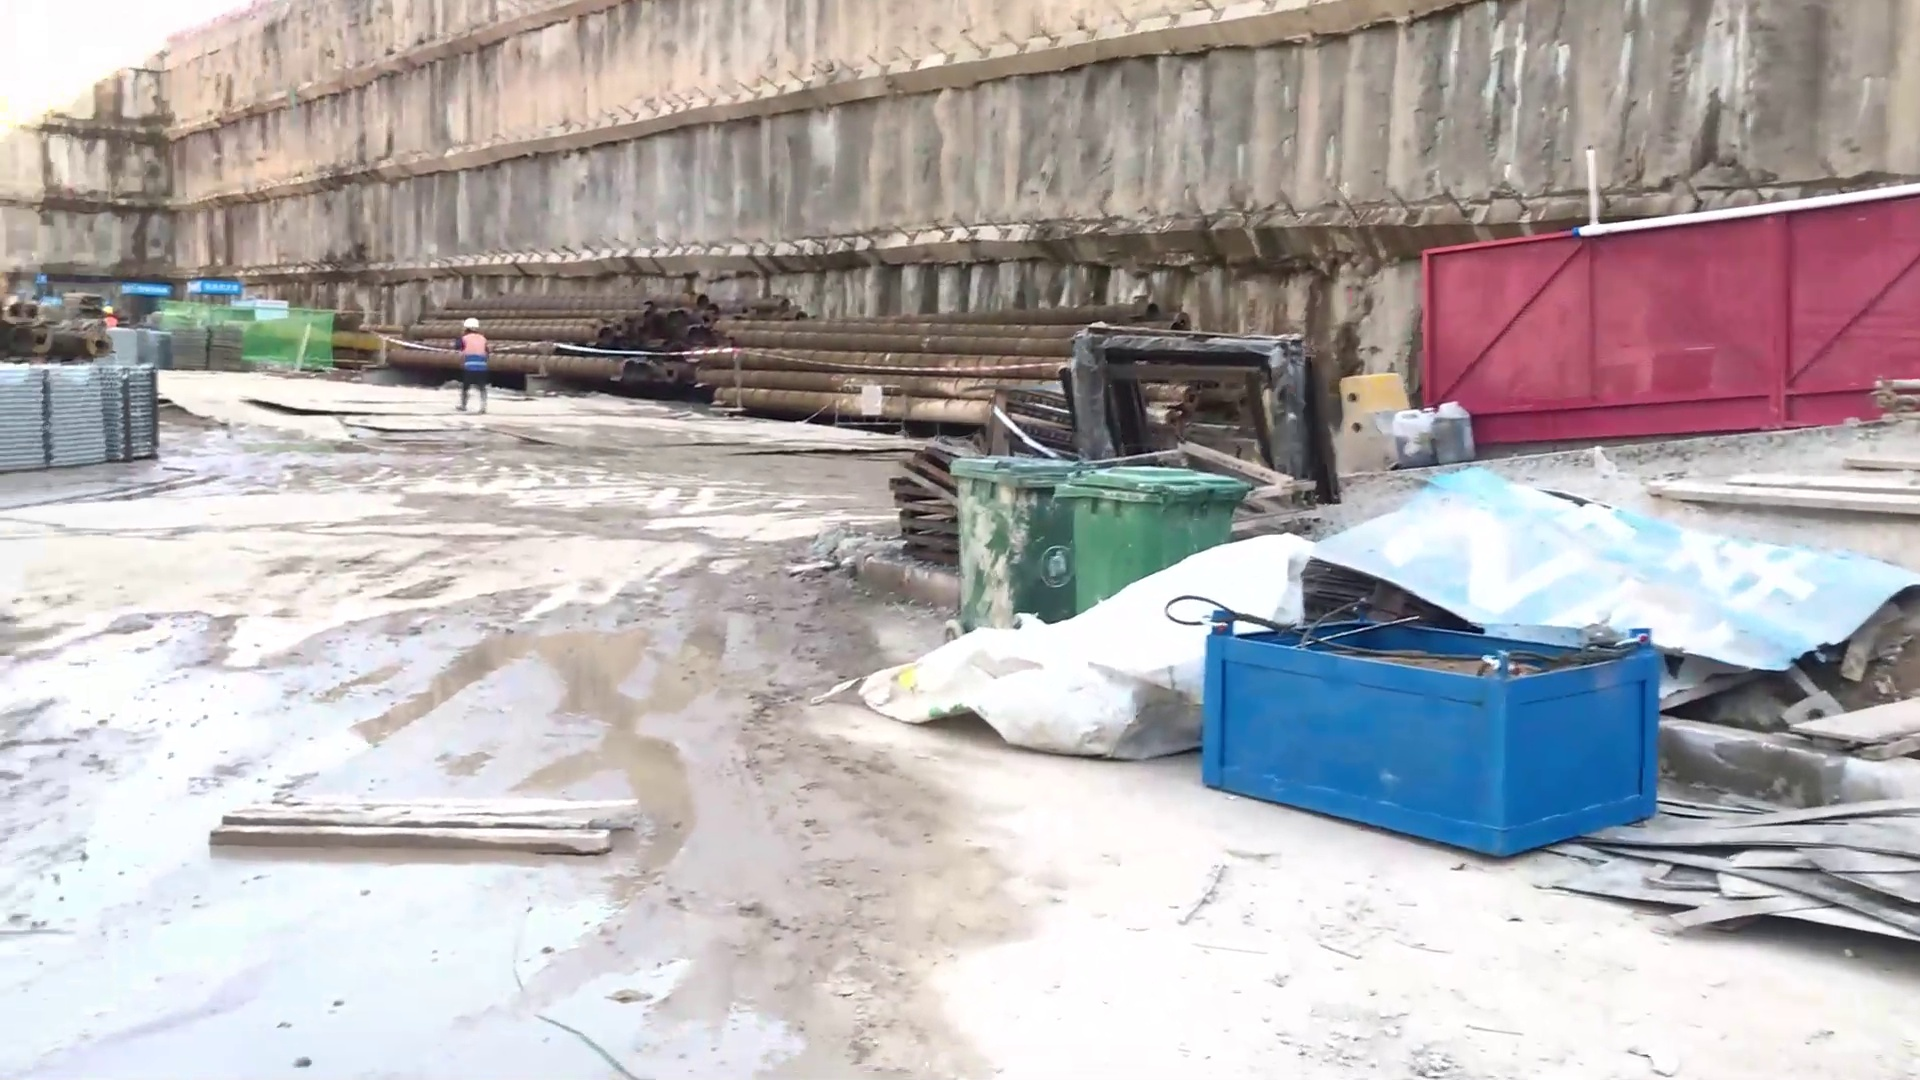fence: (1385, 194, 1920, 437)
helmet: (461, 313, 489, 338)
hopper: (1210, 588, 1669, 881)
person: (449, 309, 494, 419)
scaffold: (1, 356, 158, 464)
vest: (462, 341, 489, 381)
